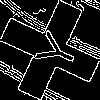Y: (25, 25, 81, 74)
